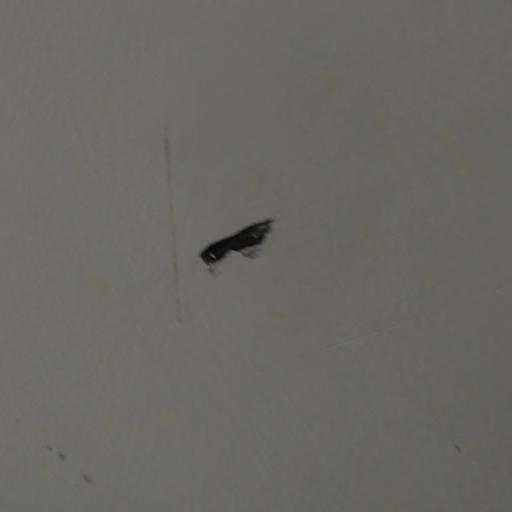stain: (140, 121, 285, 356)
